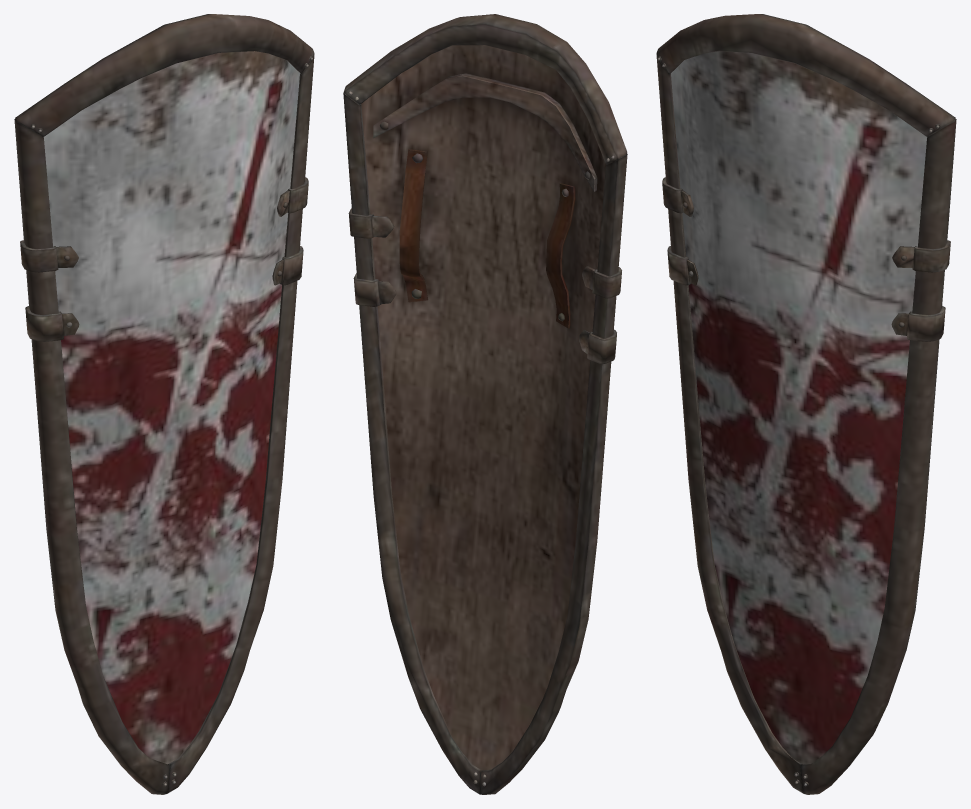
The model's file is kite_shield.glb.
3 views of the same model, side by side, from view 1: azimuth 30°, elevation 25°; view 2: azimuth 150°, elevation 25°; view 3: azimuth 330°, elevation 25° (orthographic). The views are drawn at different scales.
Parts seen in each view (by area): view 1: kite_shield_body, kite_shield_metal_trim, kite_shield_clamps_and_bolts; view 2: kite_shield_body, kite_shield_metal_trim, kite_shield_clamps_and_bolts; view 3: kite_shield_body, kite_shield_metal_trim, kite_shield_clamps_and_bolts.
Boxes of the visible parts, x1,y1,x2,y2 form: kite_shield_body: [43, 51, 300, 764]; kite_shield_metal_trim: [14, 14, 314, 794]; kite_shield_clamps_and_bolts: [20, 56, 312, 786]; kite_shield_body: [361, 45, 606, 770]; kite_shield_metal_trim: [343, 14, 627, 794]; kite_shield_clamps_and_bolts: [348, 91, 621, 786]; kite_shield_body: [671, 51, 927, 764]; kite_shield_metal_trim: [656, 14, 956, 794]; kite_shield_clamps_and_bolts: [658, 56, 950, 786].
Size of the model in its own units: 0.5432 by 1.39 by 0.1347.
2 materials, 2 textured.
